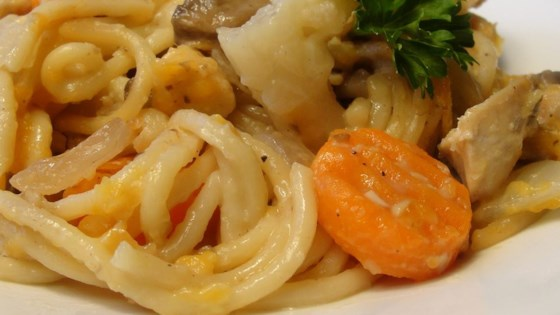plain spaghetti: (5, 6, 560, 300)
